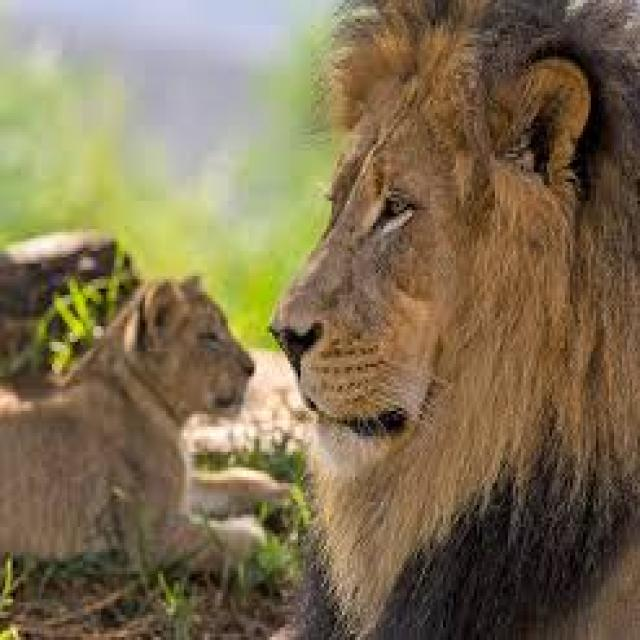Lion: (272, 0, 637, 637)
